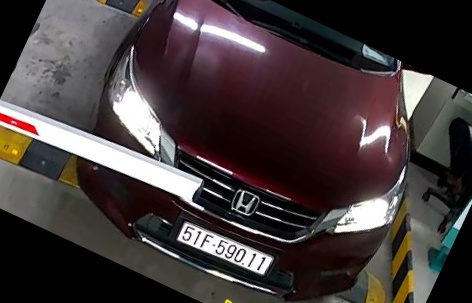plate: (175, 218, 274, 277)
